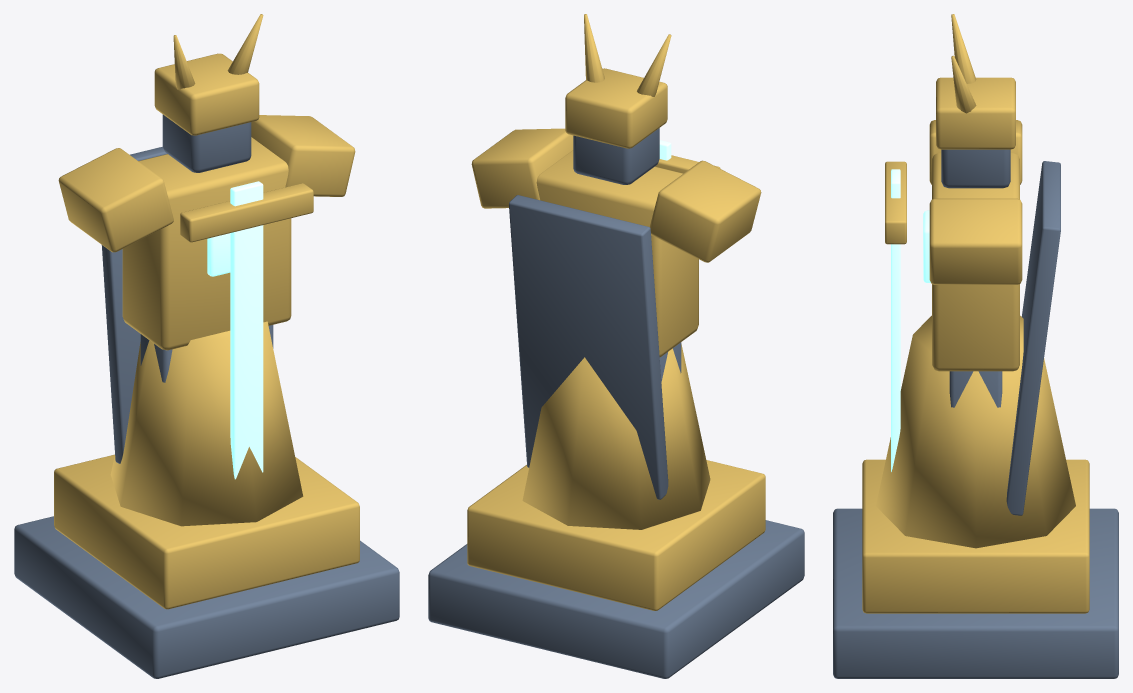
The model's file is statue_heimdall.glb.
3 views of the same model, side by side, from view 1: azimuth 30°, elevation 25°; view 2: azimuth 150°, elevation 25°; view 3: azimuth 270°, elevation 25° (orthographic). The views are drawn at different scales.
Visible parts, largest first — view 1: pedestal_1, robe, pedestal_2, torso, sword_blade, pauldron_-1, helm, pauldron_1, cape, sword_guard, head, chest_core (+2 smaller); view 2: cape, pedestal_1, pedestal_2, robe, torso, pauldron_-1, helm, pauldron_1, head, horn_1, horn_-1; view 3: robe, pedestal_1, pedestal_2, torso, cape, pauldron_1, helm, head, sword_blade, sword_guard, leg_1, horn_-1 (+3 smaller).
Part boxes in pixels (x1,y1,x2,y2): pedestal_1: (14, 516, 399, 678); robe: (110, 321, 303, 526); pedestal_2: (54, 454, 359, 609); torso: (122, 137, 291, 350); sword_blade: (230, 181, 263, 479); pauldron_-1: (58, 148, 173, 252); helm: (154, 53, 259, 135); pauldron_1: (251, 115, 355, 196); cape: (101, 146, 166, 463); sword_guard: (180, 183, 313, 242); head: (162, 114, 251, 172); chest_core: (207, 233, 230, 276); cape: (509, 195, 668, 499); pedestal_1: (428, 520, 804, 678); pedestal_2: (467, 460, 765, 610); robe: (522, 344, 710, 529); torso: (536, 150, 698, 357); pauldron_-1: (650, 160, 761, 262); helm: (565, 68, 667, 148); pauldron_1: (471, 128, 573, 208); head: (573, 128, 659, 184); horn_1: (584, 14, 604, 82); horn_-1: (637, 34, 671, 96); robe: (876, 315, 1075, 548); pedestal_1: (833, 508, 1118, 678); pedestal_2: (862, 459, 1089, 613); torso: (932, 153, 1019, 371); cape: (1006, 161, 1060, 515); pauldron_1: (929, 198, 1022, 284); helm: (936, 77, 1015, 149); head: (941, 149, 1010, 188); sword_blade: (891, 169, 900, 471); sword_guard: (885, 161, 906, 244); leg_1: (949, 371, 1002, 407); horn_-1: (951, 14, 976, 83).
Bounding box in the file's own units: 7.36 × 16.12 × 7.14.
